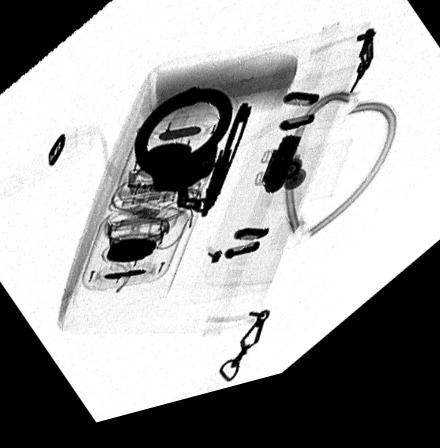HandCuffs: (132, 96, 250, 228)
